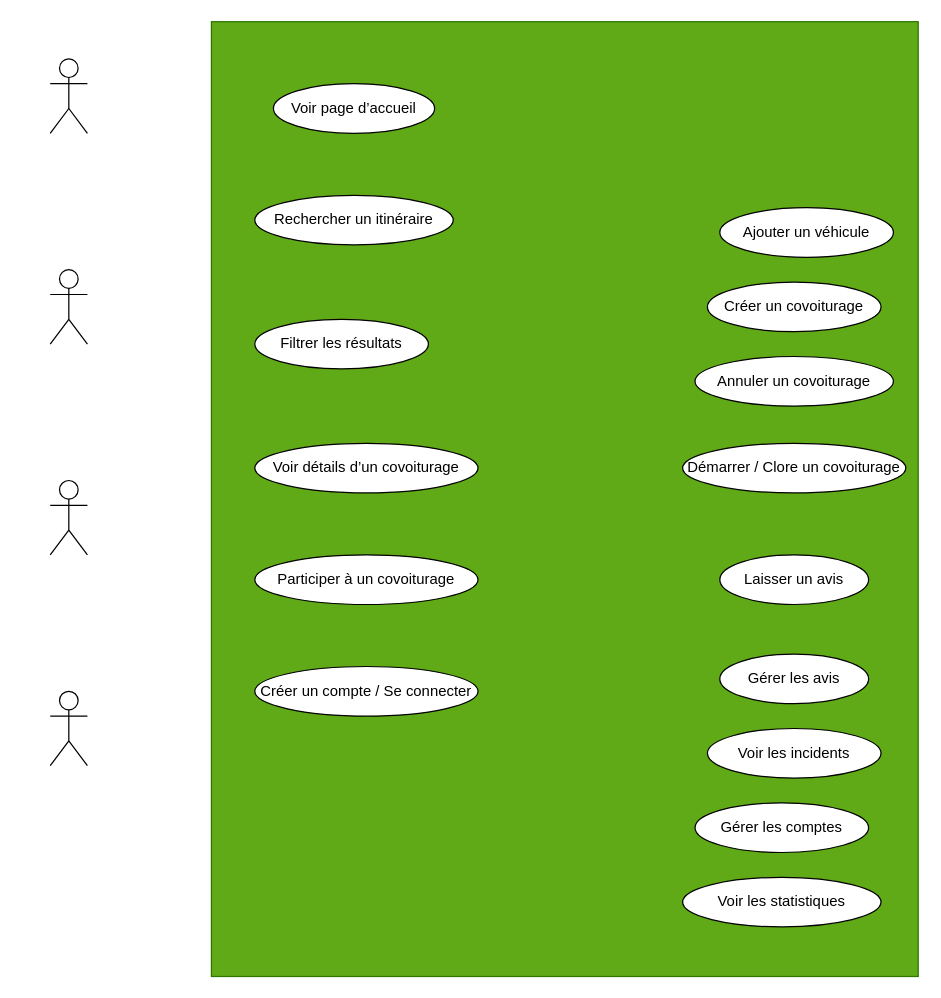
The diagram is 941 pixels wide and 998 high, and some of its shapes have lost their labels. Here are the shapes that lost their labels. From the top down, the box of each, then its label:
(49, 58, 87, 133): Visiteur
(49, 268, 87, 344): Utilisateur
(49, 479, 87, 555): Employé
(49, 690, 87, 766): Administrateur
